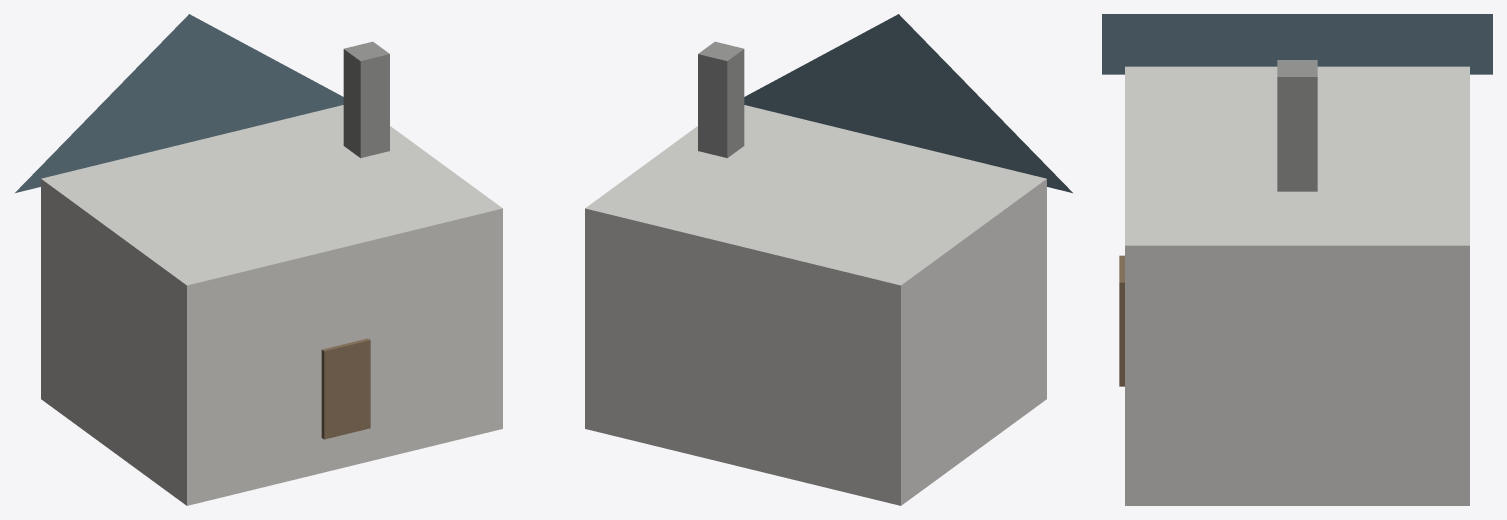
File: house_4.glb
The picture shows the model from 3 angles, left to right: view 1: azimuth 30°, elevation 25°; view 2: azimuth 150°, elevation 25°; view 3: azimuth 270°, elevation 25°; orthographic projection. The views are drawn at different scales.
Size of the model in its own units: 8.3 by 7.7 by 6.8.
